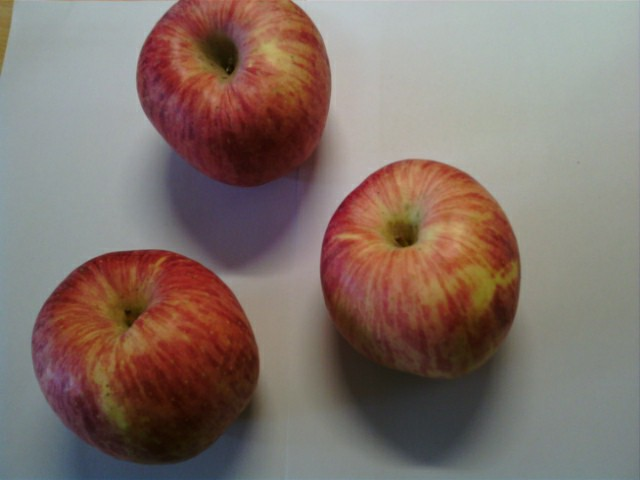normal_apple: (36, 249, 262, 458), (322, 158, 522, 382), (134, 1, 333, 187)
